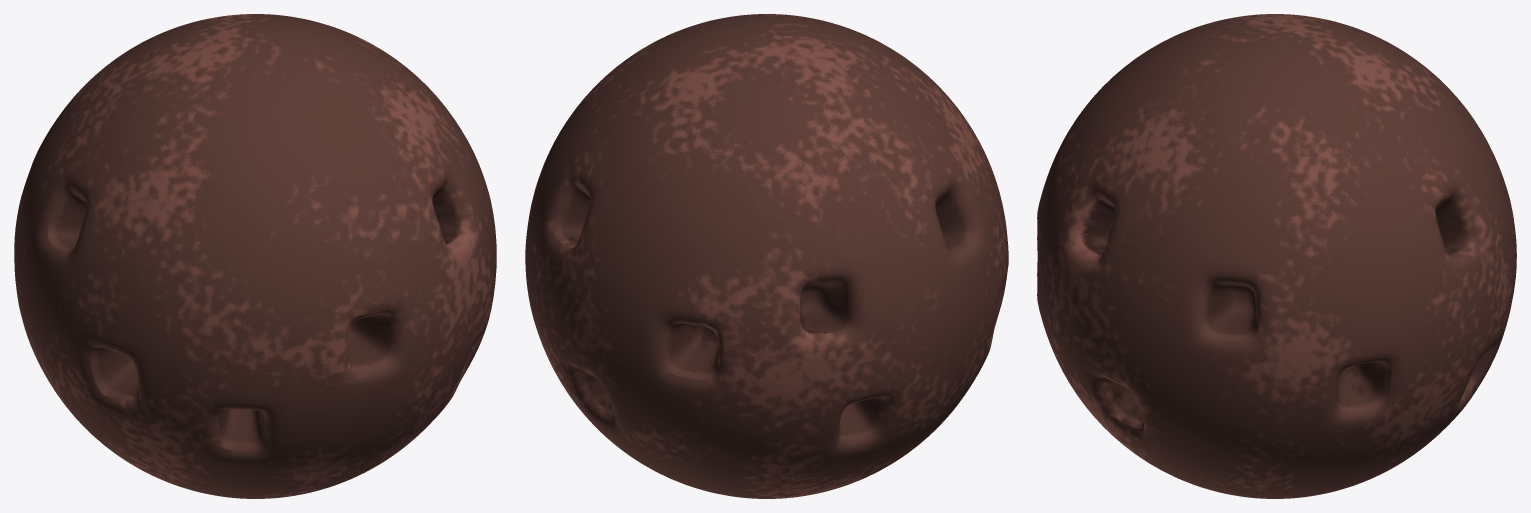
The model's file is Planet.fbx.
3 renders of one model, left to right at view 1: azimuth 30°, elevation 25°; view 2: azimuth 150°, elevation 25°; view 3: azimuth 270°, elevation 25°, orthographic.
Visible parts, largest first — view 1: Planet; view 2: Planet; view 3: Planet.
Part boxes in pixels (bbox=[...]): Planet: bbox=[14, 14, 496, 498]; Planet: bbox=[525, 14, 1008, 498]; Planet: bbox=[1037, 14, 1516, 498].
Bounding box in the file's own units: 198 × 200 × 196.
Materials: 1 (1 with a texture image).
